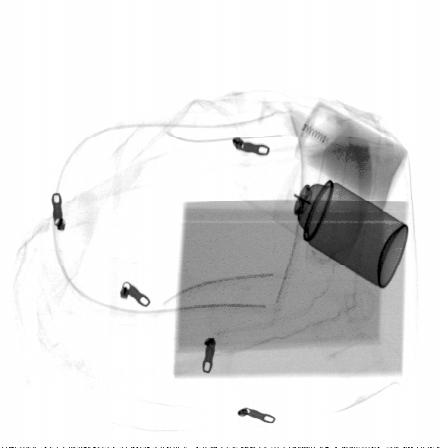Sprayer: (272, 160, 410, 290)
